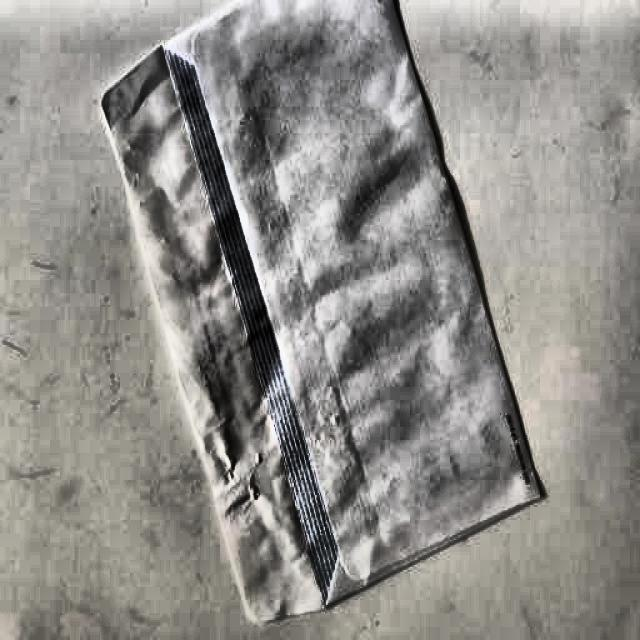paper: (99, 3, 535, 618)
